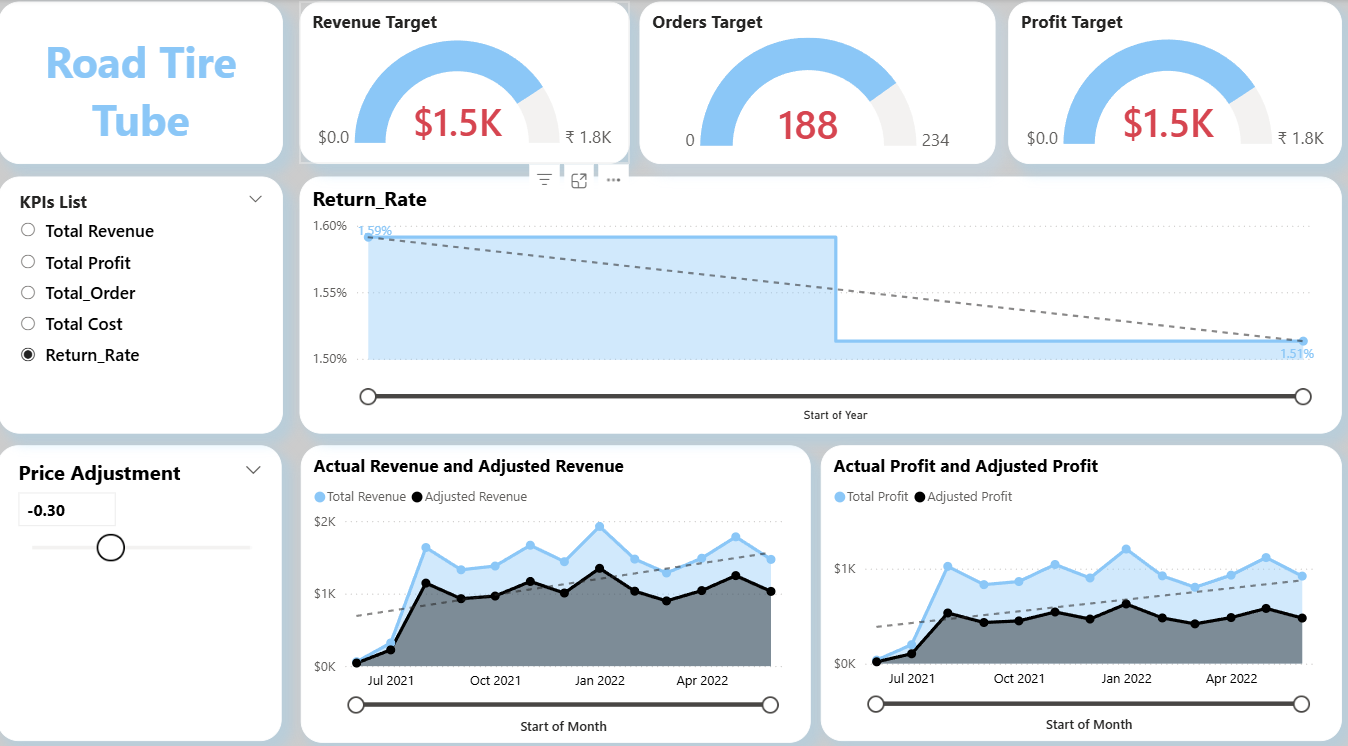

Layout of this report page (visuals, bound fields, positions):
{"tool":"powerbi","page":{"name":"Product View","canvas":[1280,720],"ordinal":2},"visuals":[{"type":"slicer","fields":{"Values":["Price Adjustment.Price Adjustment"]},"box":[0,415.1,265.1,275.6],"z":0},{"type":"areaChart","title":"Actual Revenue and Adjusted Revenue","fields":{"Category":["Calendar_Lookup.Start of Year Hierarchy.Start of Year","Calendar_Lookup.Start of Year Hierarchy.Start of Quarter","Calendar_Lookup.Start of Year Hierarchy.Start of Month","Calendar_Lookup.Start of Year Hierarchy.Start of Week","Calendar_Lookup.Start of Year Hierarchy.Dates"],"Y":["measures (2).Total Revenue","measures (2).Adjusted Revenue"]},"box":[282.6,415.1,474.4,276.7],"z":1000},{"type":"card","fields":{"Values":["Min(Products_Lookup.ProductName)"]},"box":[1,2,265.1,151.2],"z":2000},{"type":"slicer","fields":{"Values":["KPIs List.KPIs List"]},"box":[1.2,165.1,265.1,239.5],"z":3000},{"type":"areaChart","fields":{"Y":["measures (2).Return_Rate"],"Category":["Calendar_Lookup.Start of Year Hierarchy.Start of Year","Calendar_Lookup.Start of Year Hierarchy.Start of Quarter","Calendar_Lookup.Start of Year Hierarchy.Start of Month","Calendar_Lookup.Start of Year Hierarchy.Start of Week","Calendar_Lookup.Start of Year Hierarchy.Dates"]},"box":[281.4,165.1,969.8,239.5],"z":4000},{"type":"areaChart","title":"Actual Profit and Adjusted Profit","fields":{"Category":["Calendar_Lookup.Start of Year Hierarchy.Start of Year","Calendar_Lookup.Start of Year Hierarchy.Start of Quarter","Calendar_Lookup.Start of Year Hierarchy.Start of Month","Calendar_Lookup.Start of Year Hierarchy.Start of Week","Calendar_Lookup.Start of Year Hierarchy.Dates"],"Y":["measures (2).Total Profit","measures (2).Adjusted Profit"]},"box":[766.3,415.1,484.9,275.6],"z":7000},{"type":"gauge","title":"Revenue Target","fields":{"Y":["measures (2).Total Revenue"],"MaxValue":["measures (2).Revenue Target"]},"box":[281.4,2,307,151.2],"z":8000},{"type":"gauge","title":"Orders Target","fields":{"Y":["measures (2).Total_Order"],"MaxValue":["measures (2).Orders Target"]},"box":[597.7,2,331.4,151.2],"z":9000},{"type":"gauge","title":"Profit Target","fields":{"Y":["measures (2).Total Revenue"],"MaxValue":["measures (2).Revenue Target"]},"box":[940.7,2,310.5,151.2],"z":10000}]}

Visuals, with their boxes in screenshot pixels (x1, y1, x2, y2), scaled from the page's 1280x720 canvas onto the 1348x746 screenshot:
slicer - Price Adjustment.Price Adjustment: x1=0 y1=430 x2=279 y2=716
"Actual Revenue and Adjusted Revenue" areaChart: x1=298 y1=430 x2=797 y2=717
card - Min(Products_Lookup.ProductName): x1=1 y1=2 x2=280 y2=159
slicer - KPIs List.KPIs List: x1=1 y1=171 x2=280 y2=419
areaChart - measures (2).Return_Rate x Calendar_Lookup.Start of Year Hierarchy.Start of Year: x1=296 y1=171 x2=1318 y2=419
"Actual Profit and Adjusted Profit" areaChart: x1=807 y1=430 x2=1318 y2=716
"Revenue Target" gauge: x1=296 y1=2 x2=620 y2=159
"Orders Target" gauge: x1=629 y1=2 x2=978 y2=159
"Profit Target" gauge: x1=991 y1=2 x2=1318 y2=159
